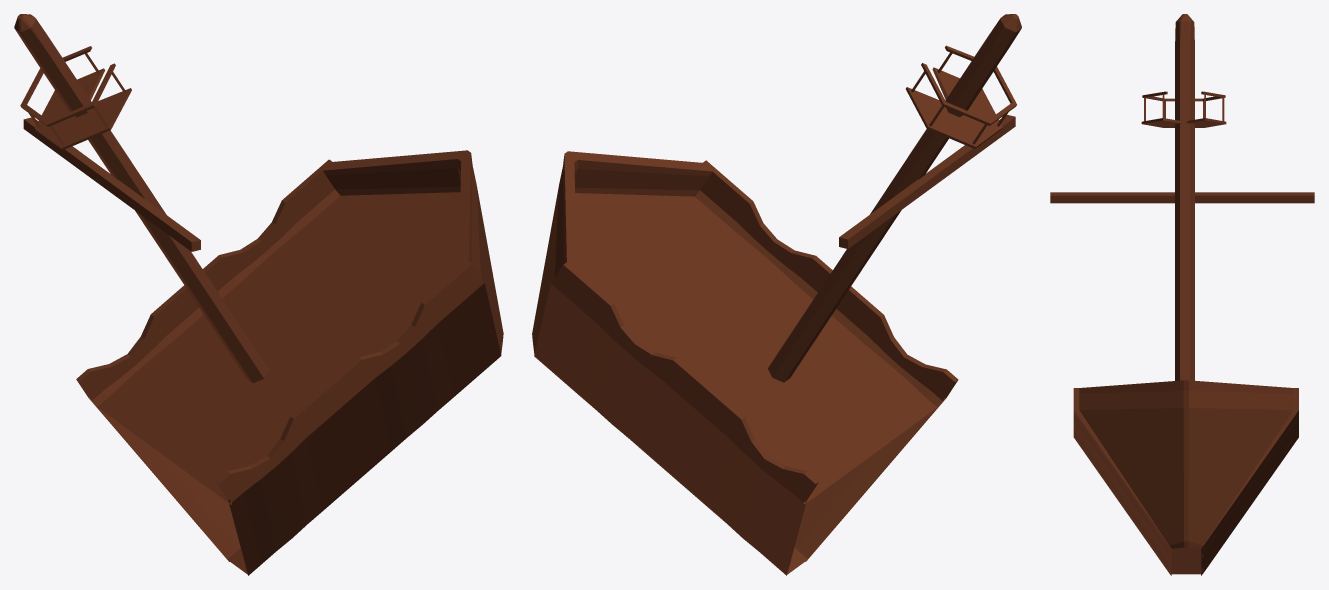
The model's file is ShipWreck(BackHalf).fbx.
3 renders of one model, left to right at view 1: azimuth 30°, elevation 25°; view 2: azimuth 150°, elevation 25°; view 3: azimuth 270°, elevation 25°, orthographic. The views are drawn at different scales.
Parts seen in each view (by area): view 1: Grid; view 2: Grid; view 3: Grid.
Part boxes in pixels (left/top/right/bottom): Grid: left=14, top=14, right=503, bottom=575; Grid: left=532, top=14, right=1021, bottom=575; Grid: left=1050, top=14, right=1314, bottom=575.
Bounding box in the file's own units: 2162 × 2586 × 1295.
